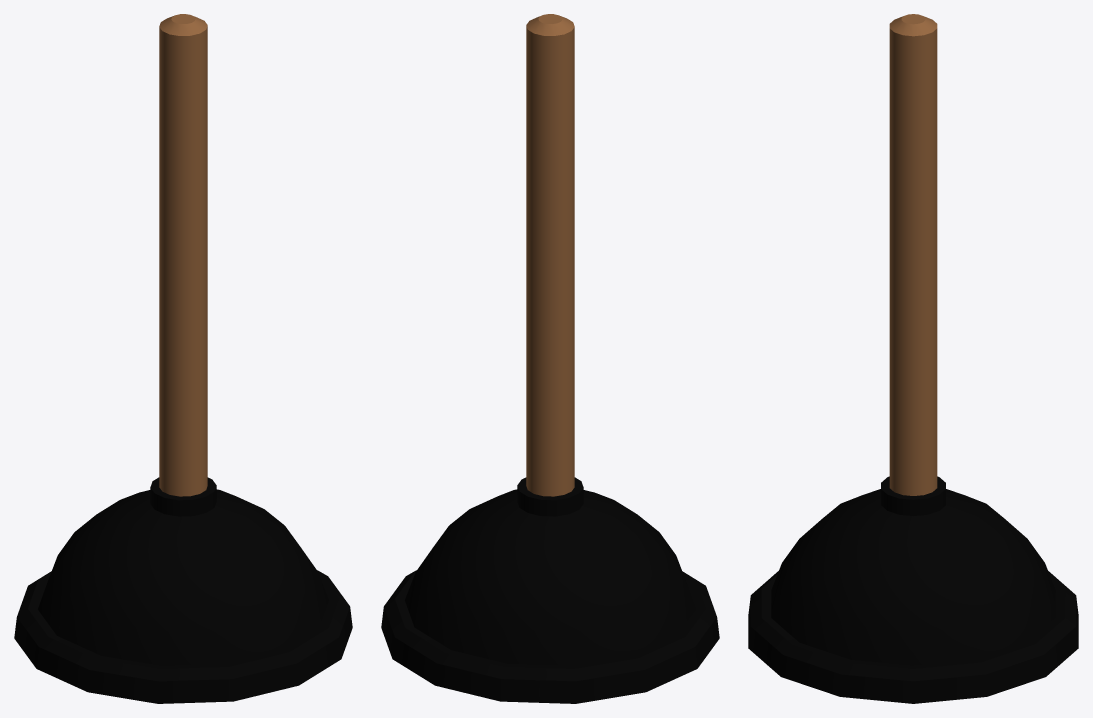
File: Hat_Plunger.fbx
3 views of the same model, side by side, from view 1: azimuth 30°, elevation 25°; view 2: azimuth 150°, elevation 25°; view 3: azimuth 270°, elevation 25° (orthographic).
Visible parts, largest first — view 1: pSphere1; view 2: pSphere1; view 3: pSphere1.
Part boxes in pixels (x1,y1,x2,y2): pSphere1: (14,14,352,703); pSphere1: (381,14,719,703); pSphere1: (748,14,1078,703).
Size of the model in its own units: 67.63 by 136 by 65.94.
